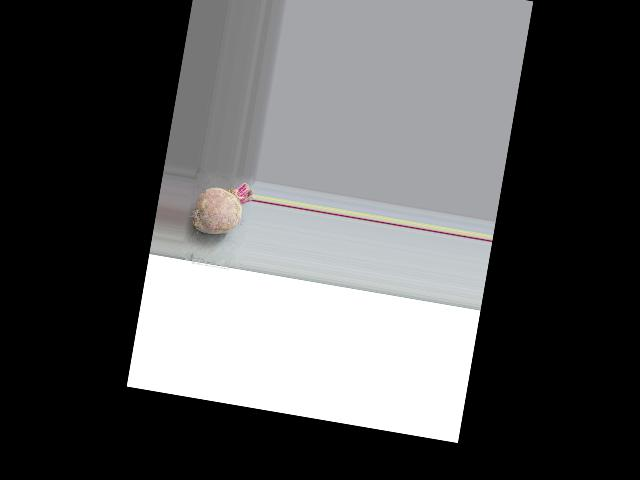beet: (190, 175, 254, 239)
